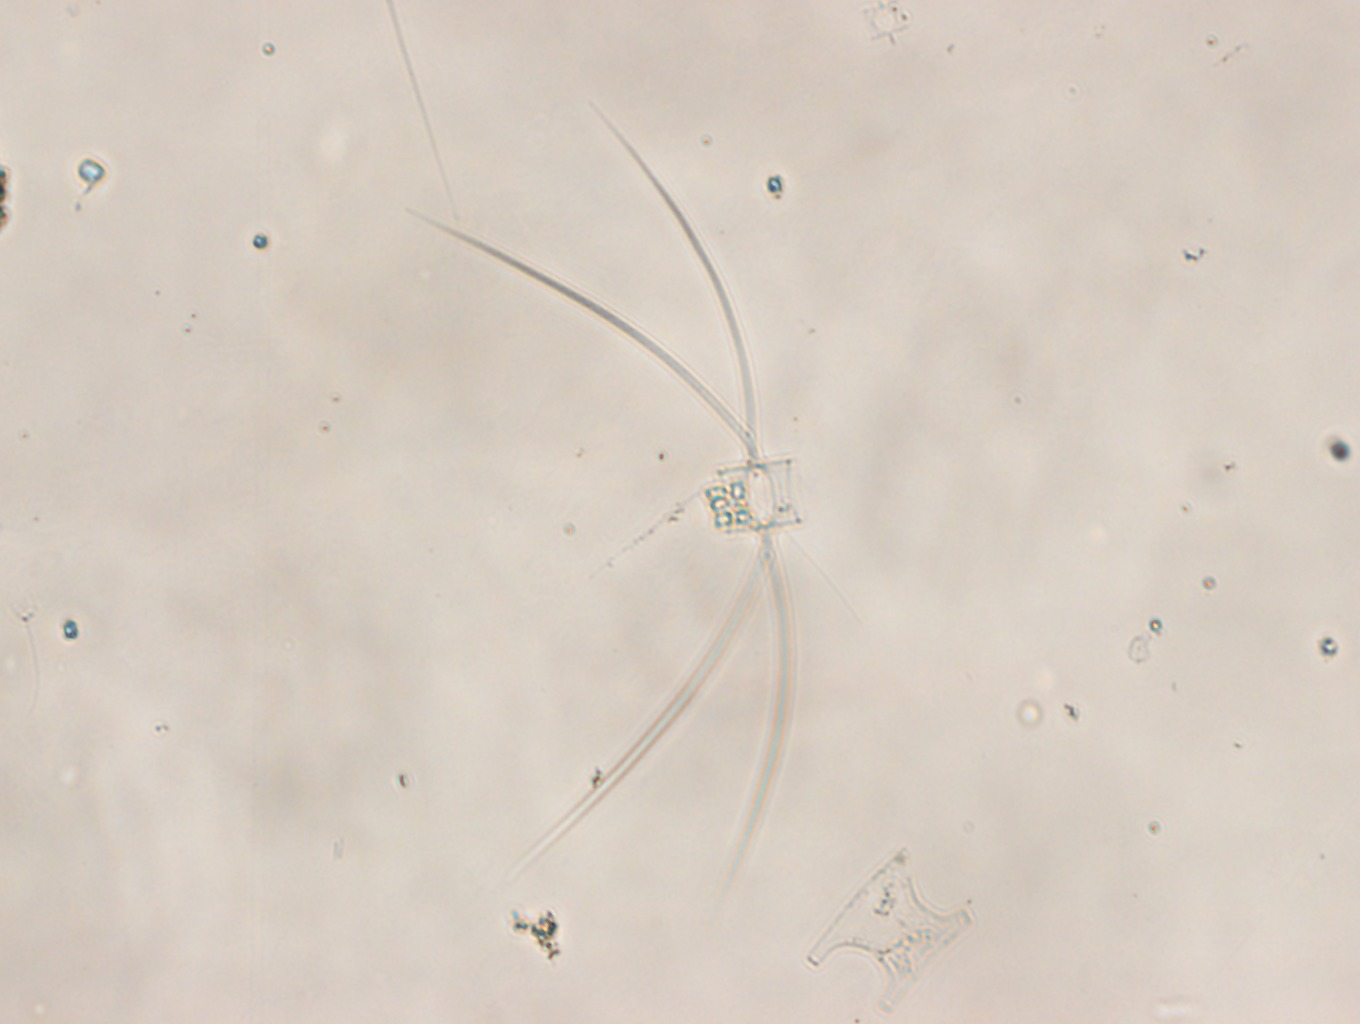chaetoceros: (409, 102, 806, 904)
eucampia: (807, 851, 980, 1016)
